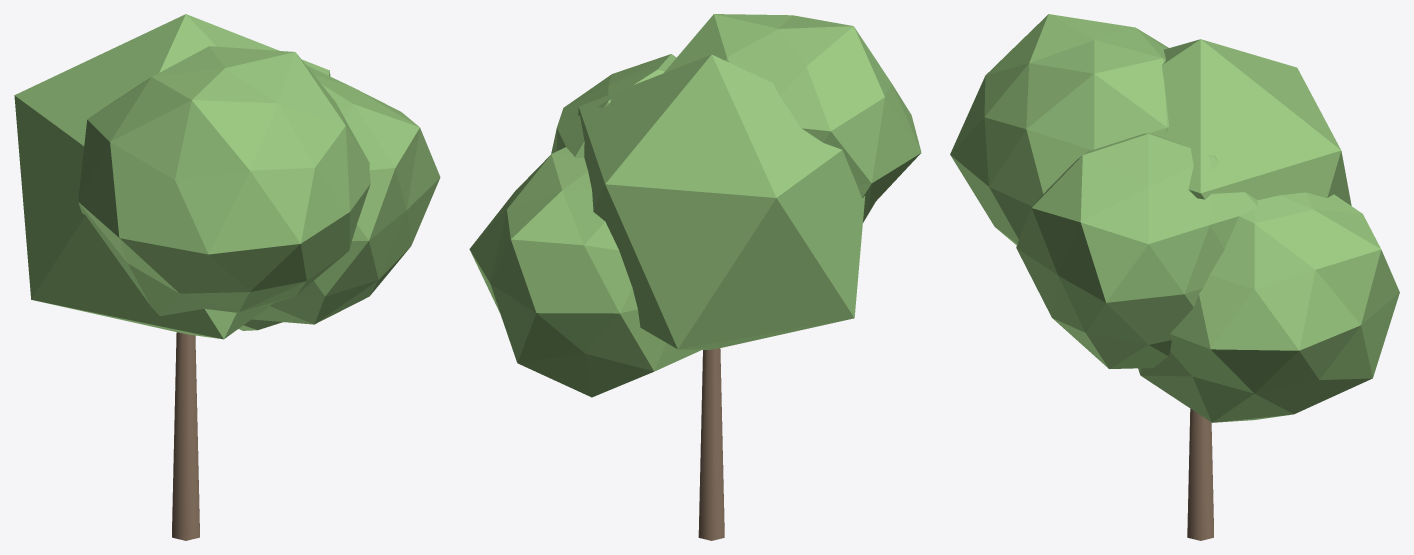
The model's file is tree_round_b.glb.
The picture shows the model from 3 angles, left to right: view 1: azimuth 30°, elevation 25°; view 2: azimuth 150°, elevation 25°; view 3: azimuth 270°, elevation 25°; orthographic projection. The views are drawn at different scales.
Parts seen in each view (by area): view 1: tree_round_b; view 2: tree_round_b; view 3: tree_round_b.
Part boxes in pixels (x1=…): tree_round_b: x1=14, y1=14, x2=440, y2=540; tree_round_b: x1=469, y1=14, x2=921, y2=540; tree_round_b: x1=950, y1=14, x2=1399, y2=540.
Bounding box in the file's own units: 5.73 × 7.79 × 6.42.
